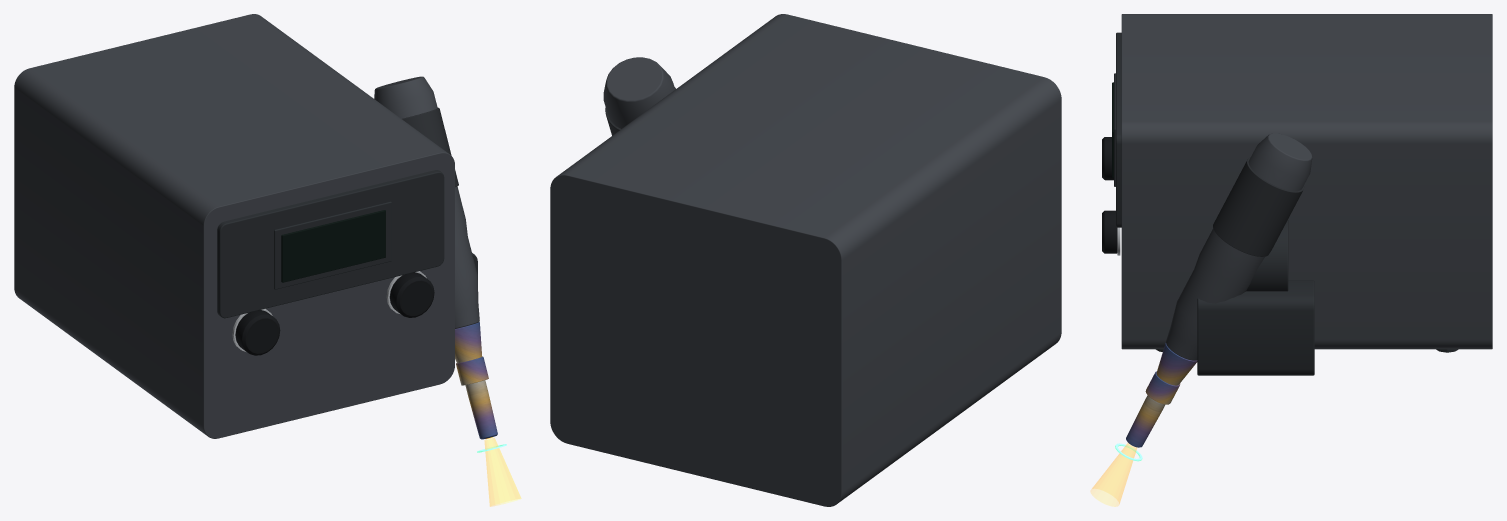
The model's file is B28_HOTAIR_LOD0.glb.
3 renders of one model, left to right at view 1: azimuth 30°, elevation 25°; view 2: azimuth 150°, elevation 25°; view 3: azimuth 270°, elevation 25°, orthographic. The views are drawn at different scales.
Visible parts, largest first — view 1: B28_BASE, B28_PANEL, B28_DISPLAY, B28_HP_BODY, B28_DISPLAY_BEZEL, B28_KNOB_TEMP, B28_KNOB_AIR, B28_AIRFLOW, B28_HP_GRIP, B28_HP_NOSE, B28_NOZZLE_8mm, B28_NOZZLE_COLLAR; view 2: B28_BASE, B28_HP_BODY; view 3: B28_BASE, B28_CRADLE, B28_HP_BODY, B28_HP_GRIP, B28_CRADLE_YOKE, B28_AIRFLOW, B28_PANEL, B28_HP_NOSE, B28_NOZZLE_8mm, B28_KNOB_AIR, B28_NOZZLE_COLLAR.
Part boxes in pixels (<box>): B28_BASE: <box>14,14,454,438</box>; B28_PANEL: <box>217,170,444,318</box>; B28_DISPLAY: <box>281,210,385,282</box>; B28_HP_BODY: <box>374,76,479,328</box>; B28_DISPLAY_BEZEL: <box>274,201,391,289</box>; B28_KNOB_TEMP: <box>235,310,280,355</box>; B28_KNOB_AIR: <box>390,272,434,317</box>; B28_AIRFLOW: <box>484,438,521,506</box>; B28_HP_GRIP: <box>402,107,458,186</box>; B28_HP_NOSE: <box>455,322,482,363</box>; B28_NOZZLE_8mm: <box>468,391,497,439</box>; B28_NOZZLE_COLLAR: <box>456,356,488,385</box>; B28_BASE: <box>550,14,1061,506</box>; B28_HP_BODY: <box>603,57,675,128</box>; B28_BASE: <box>1121,14,1492,349</box>; B28_CRADLE: <box>1197,280,1314,375</box>; B28_HP_BODY: <box>1166,133,1312,360</box>; B28_HP_GRIP: <box>1213,157,1304,256</box>; B28_CRADLE_YOKE: <box>1246,220,1288,291</box>; B28_AIRFLOW: <box>1090,443,1137,506</box>; B28_PANEL: <box>1116,32,1121,227</box>; B28_HP_NOSE: <box>1156,342,1197,385</box>; B28_NOZZLE_8mm: <box>1126,402,1161,447</box>; B28_KNOB_AIR: <box>1102,210,1117,253</box>; B28_NOZZLE_COLLAR: <box>1145,371,1180,404</box>.
Size of the model in its own units: 187 by 211 by 213.
Materials: 10 (1 with a texture image).
